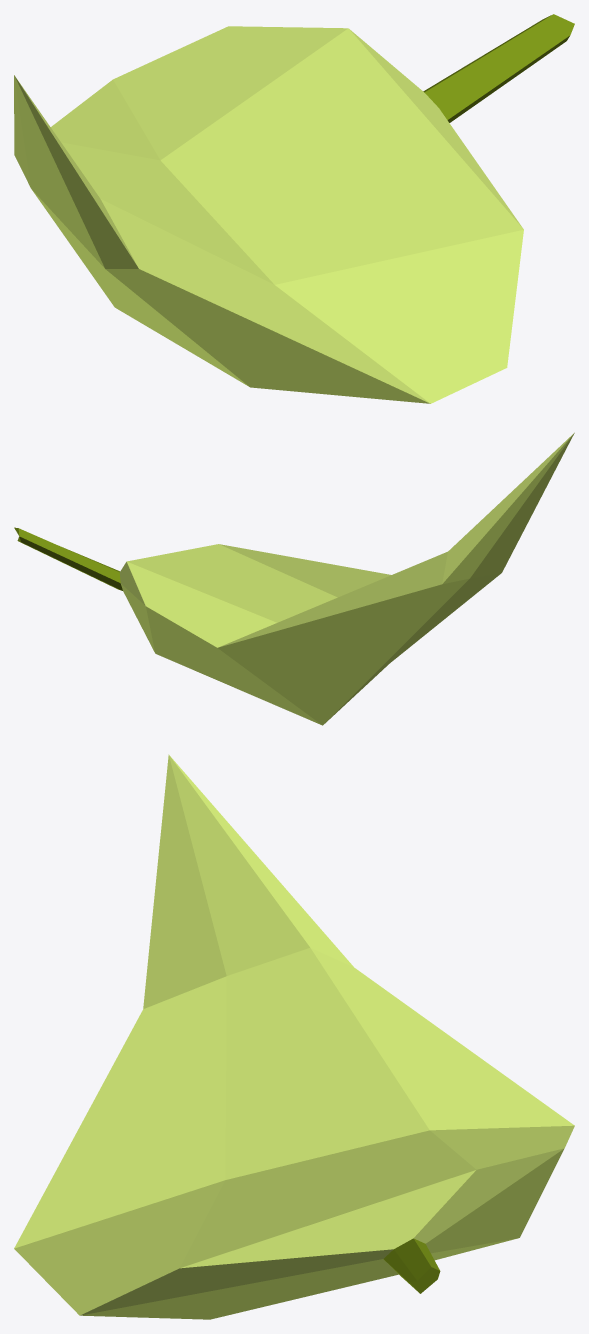
The model's file is Leaf2_Alt2.fbx.
3 views of the same model, one above another, from view 1: azimuth 30°, elevation 25°; view 2: azimuth 150°, elevation 25°; view 3: azimuth 270°, elevation 25° (orthographic). The views are drawn at different scales.
Parts seen in each view (by area): view 1: Leaf2_Alt2; view 2: Leaf2_Alt2; view 3: Leaf2_Alt2.
Part boxes in pixels (x1,y1,x2,y2): Leaf2_Alt2: (14, 14, 574, 403); Leaf2_Alt2: (14, 432, 574, 725); Leaf2_Alt2: (14, 754, 574, 1319).
Bounding box in the file's own units: 0.408 × 0.2191 × 0.2995.
